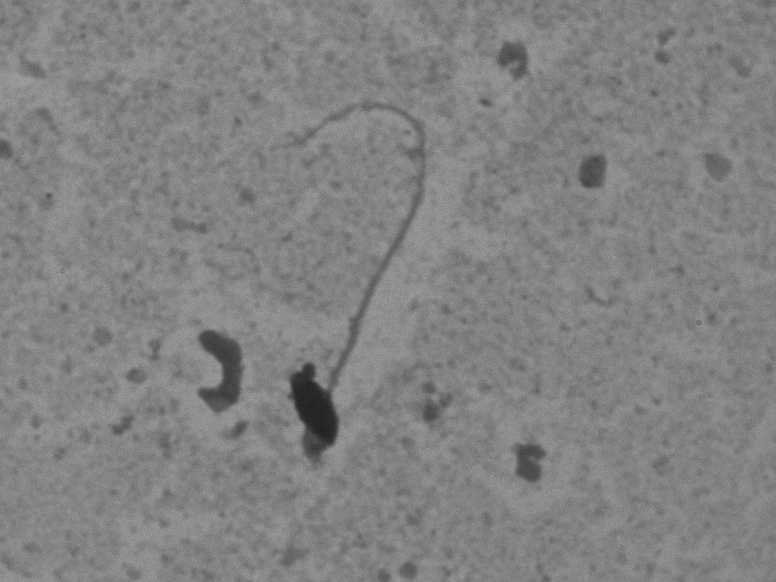Abnormal: (211, 82, 456, 472)
